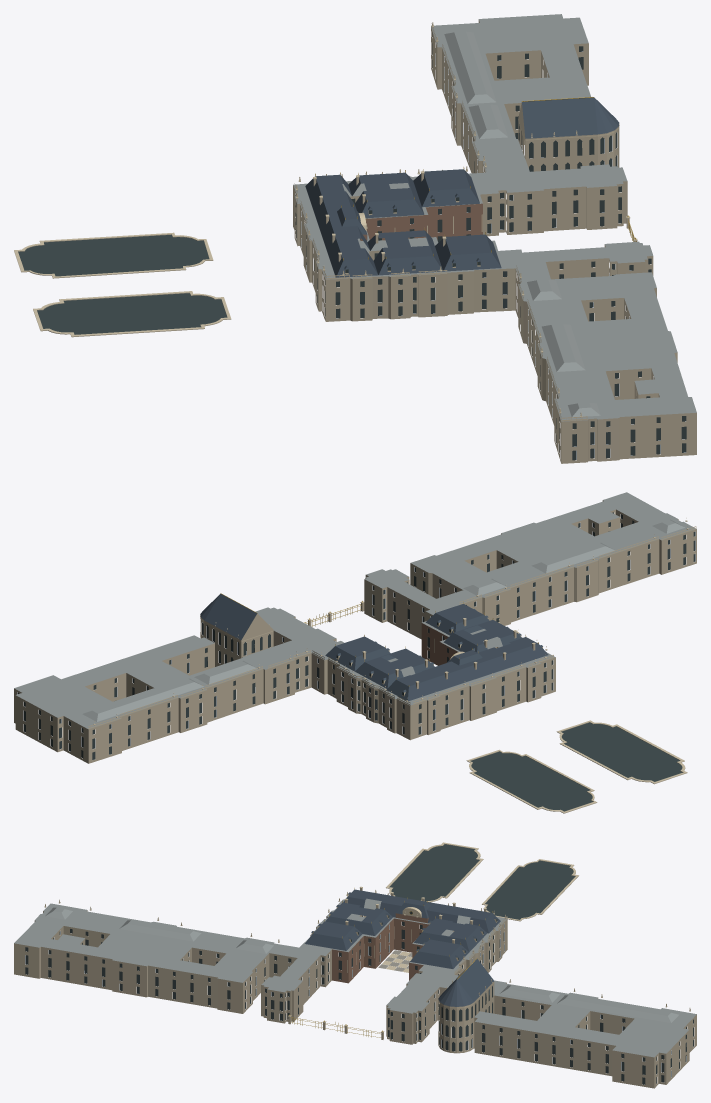
The model's file is chateau-de-versailles-far.glb.
3 views of the same model, one above another, from view 1: azimuth 30°, elevation 25°; view 2: azimuth 150°, elevation 25°; view 3: azimuth 270°, elevation 25° (orthographic). The views are drawn at different scales.
Visible parts, largest first — view 1: chateau-de-versailles-0-lead, chateau-de-versailles-0-stone, chateau-de-versailles-0-glass, chateau-de-versailles-0-roof, chateau-de-versailles-0-trim, chateau-de-versailles-0-brick; view 2: chateau-de-versailles-0-stone, chateau-de-versailles-0-lead, chateau-de-versailles-0-glass, chateau-de-versailles-0-roof, chateau-de-versailles-0-trim, chateau-de-versailles-0-brick; view 3: chateau-de-versailles-0-stone, chateau-de-versailles-0-lead, chateau-de-versailles-0-glass, chateau-de-versailles-0-roof, chateau-de-versailles-0-brick, chateau-de-versailles-0-trim, chateau-de-versailles-0-gold.
Boxes of the visible parts, x1,y1,x2,y2 form: chateau-de-versailles-0-lead: [293, 14, 696, 421]; chateau-de-versailles-0-stone: [14, 19, 696, 463]; chateau-de-versailles-0-glass: [18, 32, 686, 460]; chateau-de-versailles-0-roof: [305, 97, 619, 277]; chateau-de-versailles-0-trim: [14, 22, 637, 421]; chateau-de-versailles-0-brick: [360, 203, 482, 240]; chateau-de-versailles-0-stone: [14, 500, 696, 813]; chateau-de-versailles-0-lead: [14, 492, 696, 729]; chateau-de-versailles-0-glass: [17, 512, 695, 811]; chateau-de-versailles-0-roof: [200, 594, 548, 701]; chateau-de-versailles-0-trim: [88, 518, 696, 812]; chateau-de-versailles-0-brick: [421, 623, 458, 665]; chateau-de-versailles-0-stone: [14, 843, 696, 1088]; chateau-de-versailles-0-lead: [14, 897, 696, 1057]; chateau-de-versailles-0-glass: [25, 844, 693, 1084]; chateau-de-versailles-0-roof: [305, 889, 500, 1006]; chateau-de-versailles-0-brick: [332, 913, 428, 983]; chateau-de-versailles-0-trim: [44, 842, 690, 1032]; chateau-de-versailles-0-gold: [289, 888, 492, 1037].
Bounding box in the file's own units: 349 × 44 × 409.
